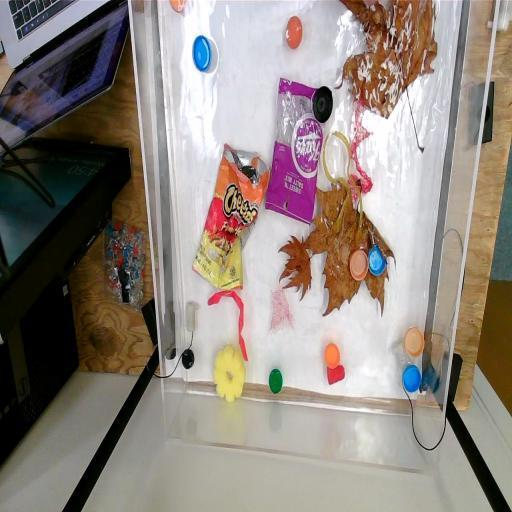Bottle Cap: (190, 31, 214, 77), (402, 322, 428, 364), (312, 80, 334, 128), (346, 242, 370, 286), (284, 12, 306, 58), (366, 240, 388, 280), (400, 360, 423, 398), (266, 362, 286, 400), (322, 338, 342, 370), (178, 344, 196, 374), (168, 0, 190, 19)
Cone Cap: (324, 362, 348, 390)
Leaf: (306, 183, 396, 317), (342, 0, 439, 123), (278, 230, 316, 303)
Netting: (346, 97, 377, 206), (267, 282, 296, 340)
Plastic Bag: (192, 140, 270, 294), (264, 74, 323, 230)
Plastic Strand: (322, 128, 366, 238), (204, 284, 256, 362)
Sponge: (209, 344, 248, 406)
